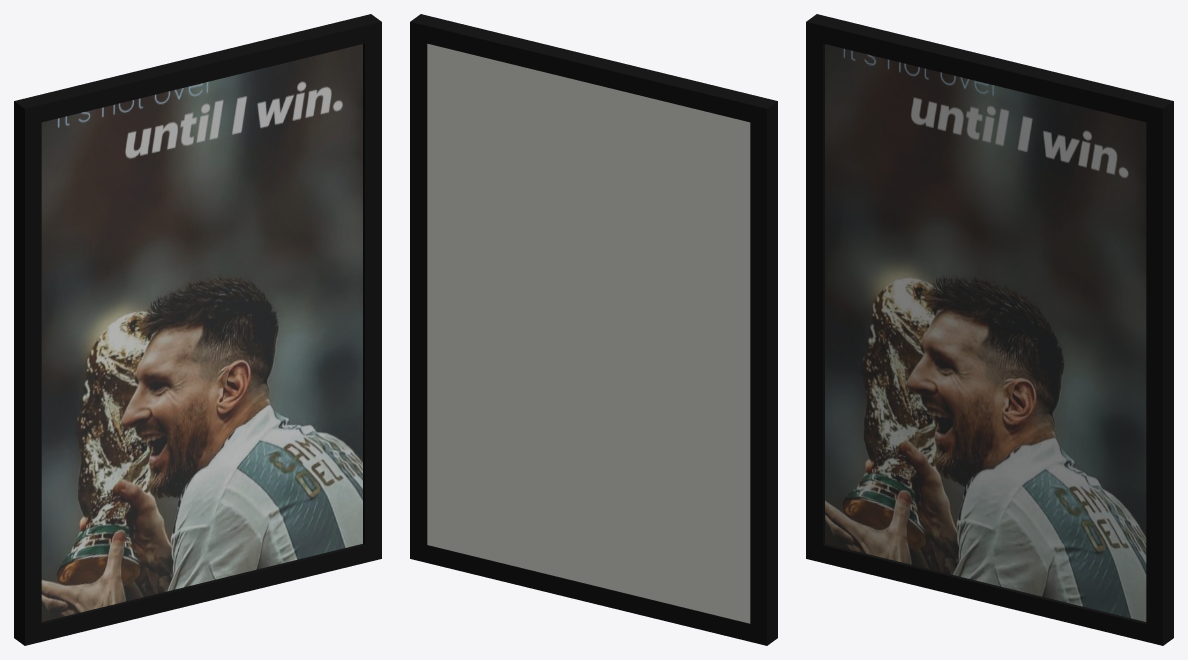
The model's file is motivational-framed-poster-its-not-over-until-i-win.glb.
3 views of the same model, side by side, from view 1: azimuth 30°, elevation 25°; view 2: azimuth 150°, elevation 25°; view 3: azimuth 330°, elevation 25° (orthographic).
Visible parts, largest first — view 1: It's Not Over Until I Win – Motivationsposter; view 2: It's Not Over Until I Win – Motivationsposter; view 3: It's Not Over Until I Win – Motivationsposter.
Part boxes in pixels (<box>): It's Not Over Until I Win – Motivationsposter: <box>14,14,381,645</box>; It's Not Over Until I Win – Motivationsposter: <box>410,14,777,645</box>; It's Not Over Until I Win – Motivationsposter: <box>806,14,1173,645</box>.
Size of the model in its own units: 0.4241 by 0.6096 by 0.022.
Materials: 1 (1 with a texture image).
